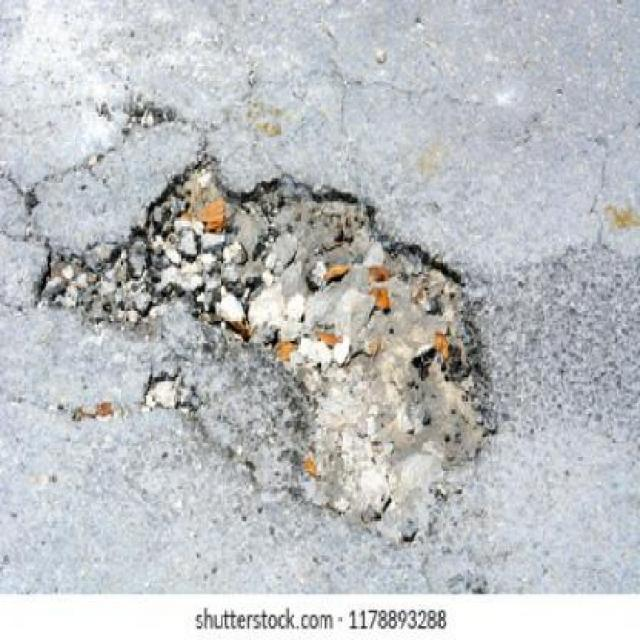Pothole: (28, 152, 496, 552)
